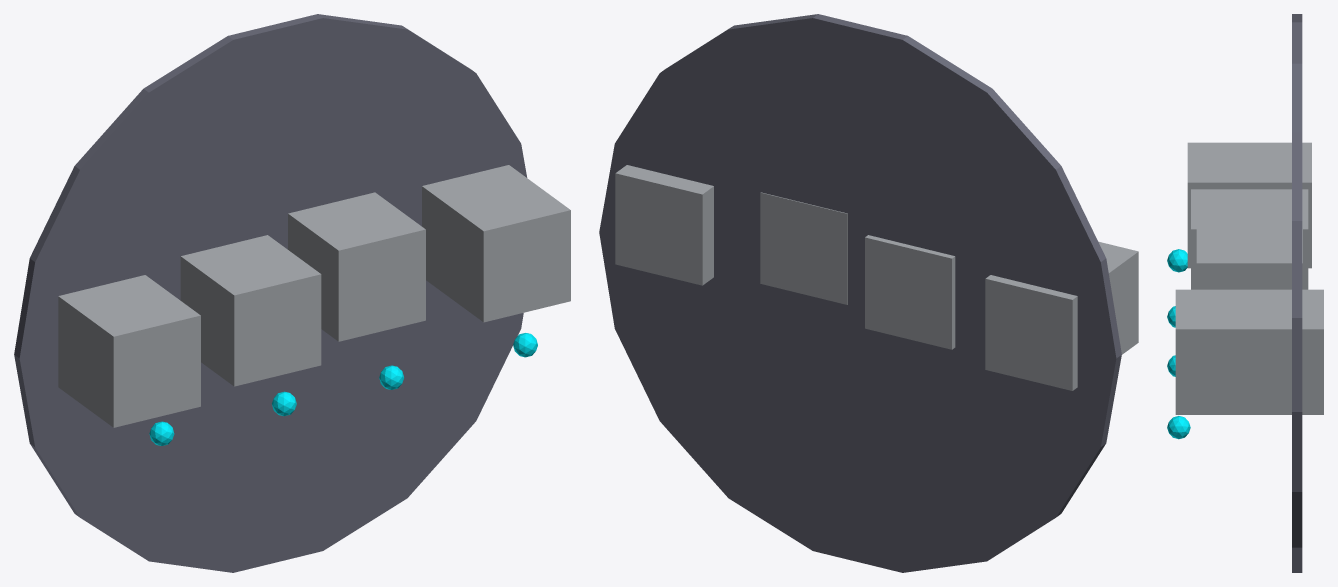
File: 03_ambient_object_cluster.glb
3 renders of one model, left to right at view 1: azimuth 30°, elevation 25°; view 2: azimuth 150°, elevation 25°; view 3: azimuth 270°, elevation 25°, orthographic. The views are drawn at different scales.
Parts seen in each view (by area): view 1: scatter_base, tech_crate_3, tech_crate_0, tech_crate_1, tech_crate_2; view 2: scatter_base, tech_crate_0, tech_crate_3, tech_crate_1, tech_crate_2; view 3: tech_crate_3, tech_crate_2, tech_crate_0, scatter_base, tech_crate_1, status_light_3, status_light_0.
Boxes of the visible parts, x1=… form: scatter_base: x1=14, y1=14, x2=527, y2=572; tech_crate_3: x1=422, y1=165, x2=570, y2=322; tech_crate_0: x1=58, y1=275, x2=200, y2=427; tech_crate_1: x1=180, y1=235, x2=321, y2=386; tech_crate_2: x1=288, y1=192, x2=425, y2=341; scatter_base: x1=599, y1=14, x2=1121, y2=572; tech_crate_0: x1=985, y1=241, x2=1138, y2=390; tech_crate_3: x1=615, y1=165, x2=713, y2=285; tech_crate_1: x1=865, y1=235, x2=955, y2=349; tech_crate_2: x1=760, y1=192, x2=847, y2=304; tech_crate_3: x1=1175, y1=289, x2=1323, y2=414; tech_crate_2: x1=1196, y1=223, x2=1302, y2=289; tech_crate_0: x1=1187, y1=142, x2=1311, y2=268; scatter_base: x1=1292, y1=14, x2=1302, y2=572; tech_crate_1: x1=1191, y1=189, x2=1308, y2=289; status_light_3: x1=1167, y1=416, x2=1190, y2=439; status_light_0: x1=1167, y1=249, x2=1187, y2=272.
Size of the model in its own units: 1.9 by 1.87 by 0.531.
